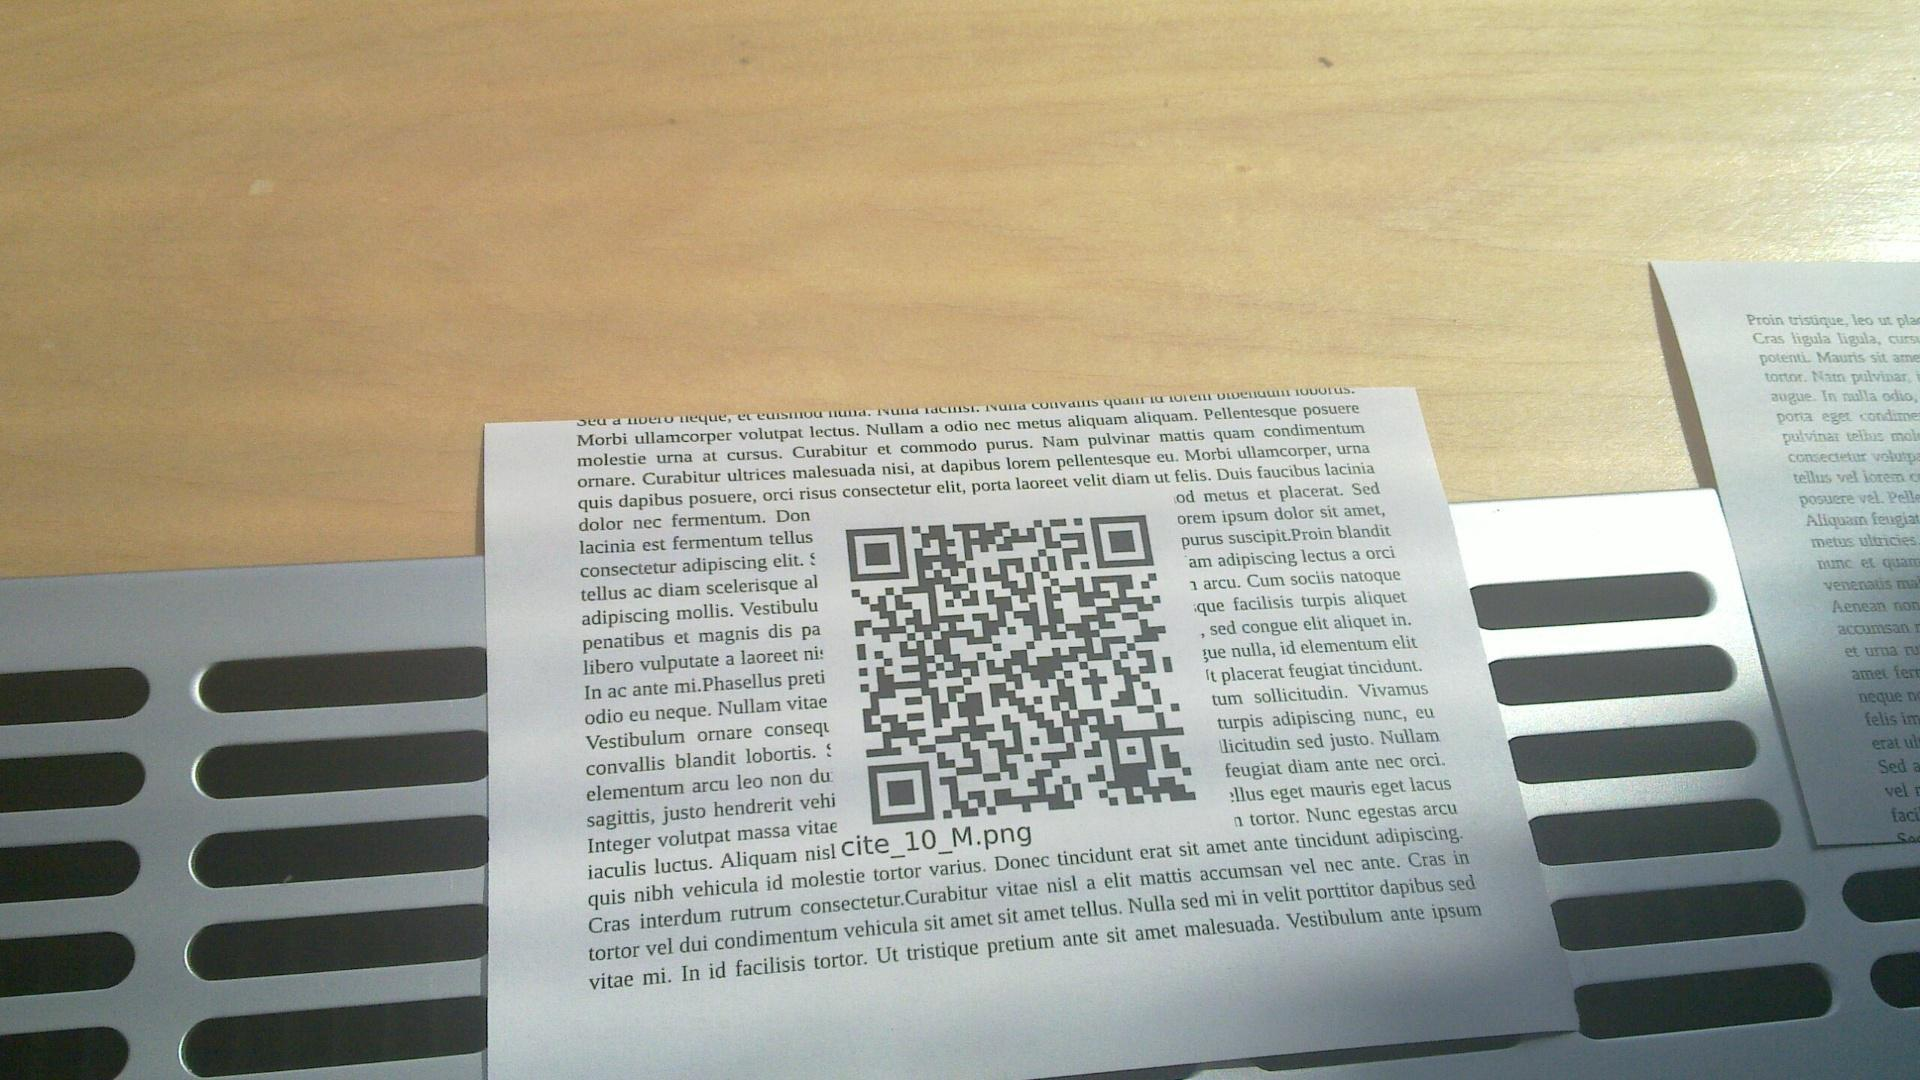Finder pattern: (862, 756, 938, 829), (1084, 509, 1156, 574), (839, 520, 909, 585)
